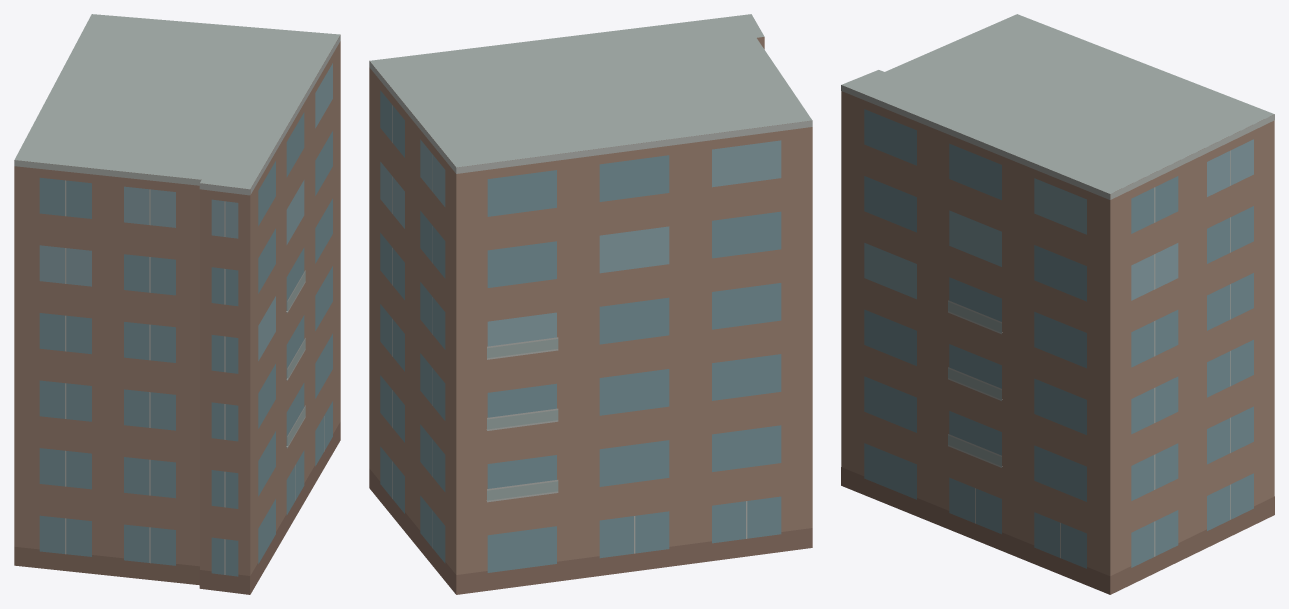
Rendered from survey-upis-33012310.glb.
3 views of the same model, side by side, from view 1: azimuth 30°, elevation 25°; view 2: azimuth 150°, elevation 25°; view 3: azimuth 270°, elevation 25° (orthographic). The views are drawn at different scales.
Visible parts, largest first — view 1: survey-upis-33012310.tmp; view 2: survey-upis-33012310.tmp; view 3: survey-upis-33012310.tmp.
Boxes of the visible parts, box(x1,y1,x2,y2) form: survey-upis-33012310.tmp: box(14, 14, 340, 594); survey-upis-33012310.tmp: box(369, 14, 812, 594); survey-upis-33012310.tmp: box(841, 14, 1274, 594).
Bounding box in the file's own units: 15.52 × 16.1 × 15.79.
